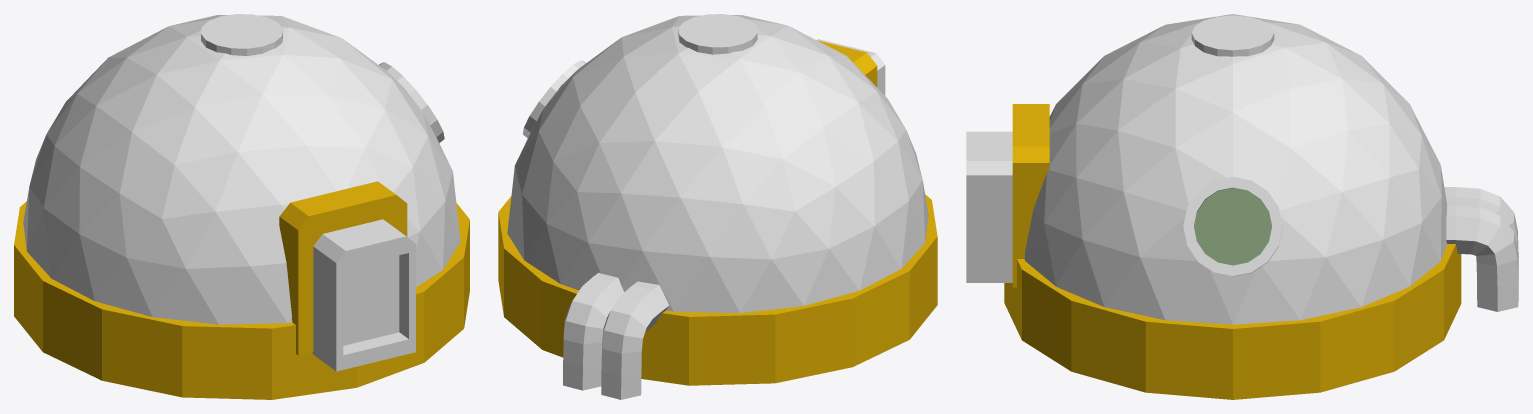
The model's file is house1.glb.
The picture shows the model from 3 angles, left to right: view 1: azimuth 30°, elevation 25°; view 2: azimuth 150°, elevation 25°; view 3: azimuth 270°, elevation 25°; orthographic projection. The views are drawn at different scales.
Visible parts, largest first — view 1: Cube.025; view 2: Cube.025; view 3: Cube.025.
Boxes of the visible parts, x1,y1,x2,y2 form: Cube.025: [14, 14, 469, 399]; Cube.025: [498, 14, 937, 399]; Cube.025: [966, 14, 1518, 399].
Size of the model in its own units: 6.19 by 4.04 by 7.48.
